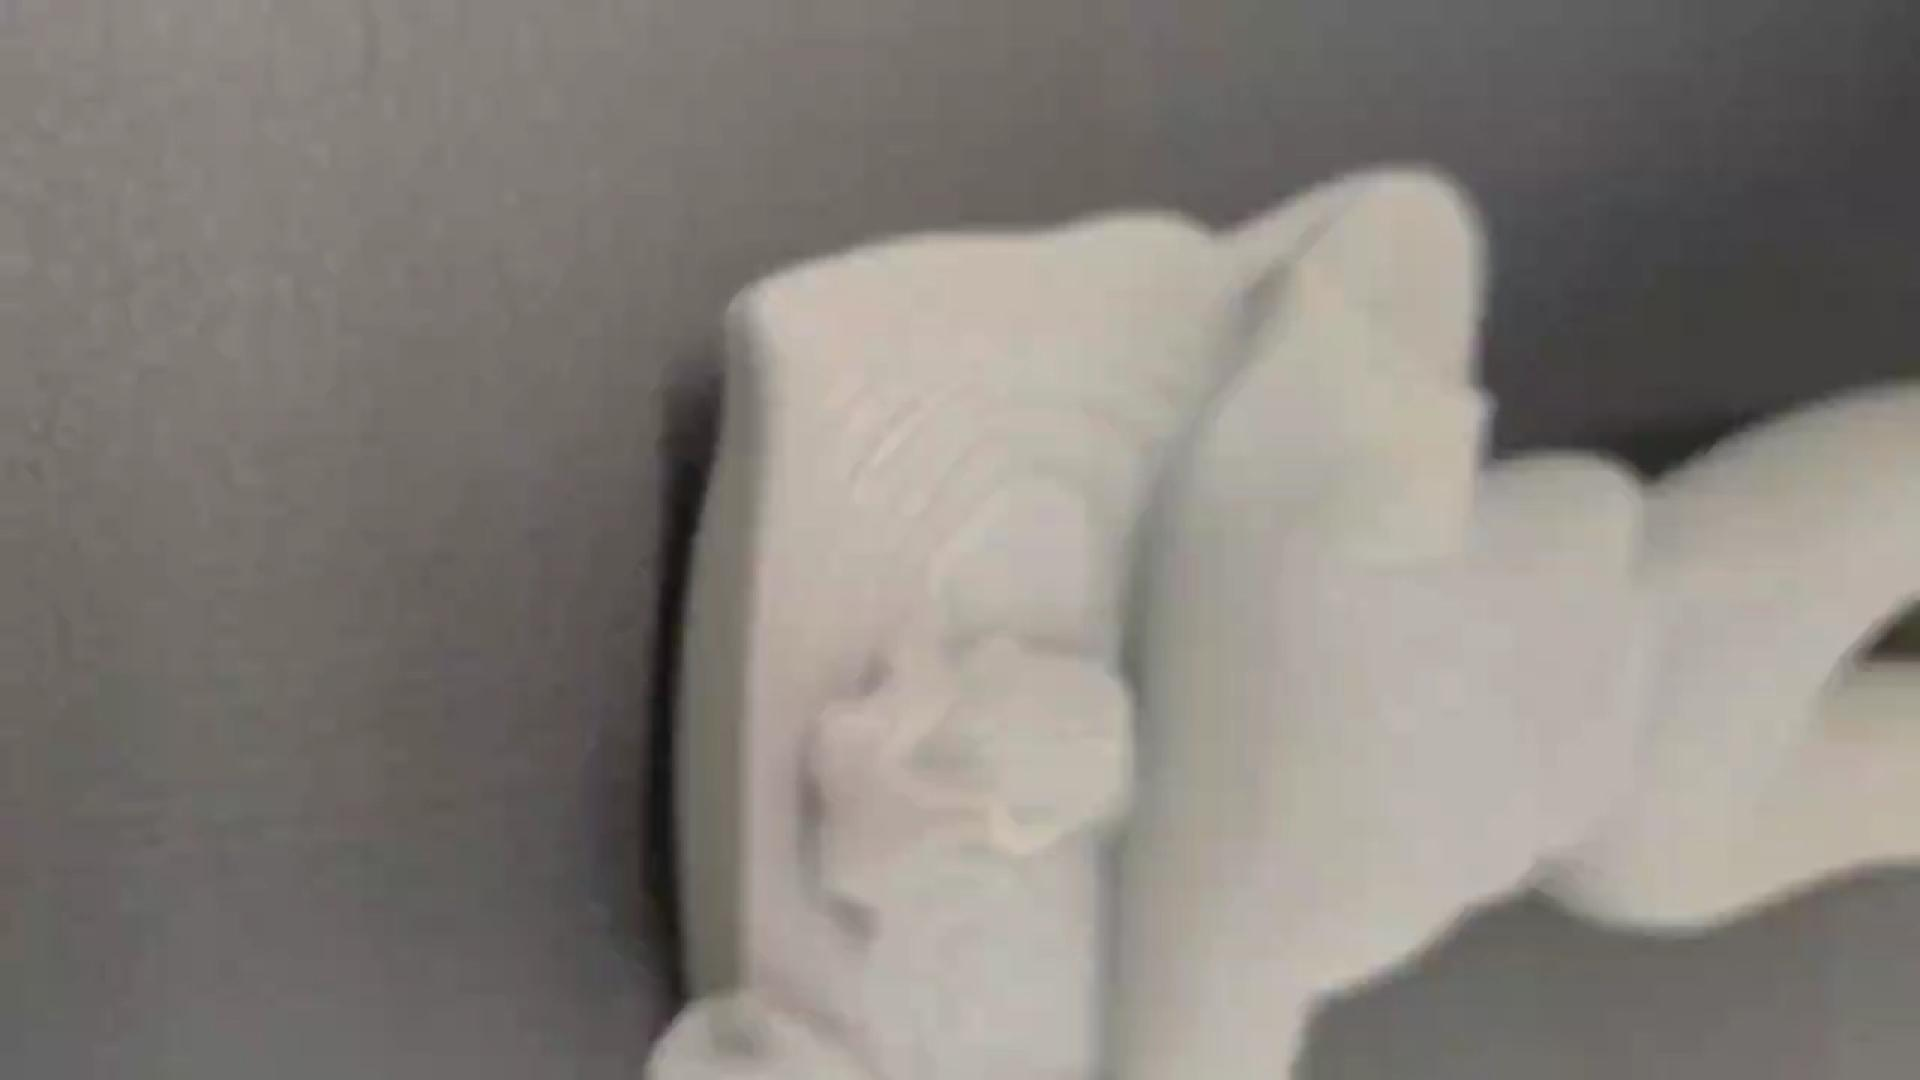Bad-style: (621, 158, 1920, 1079)
